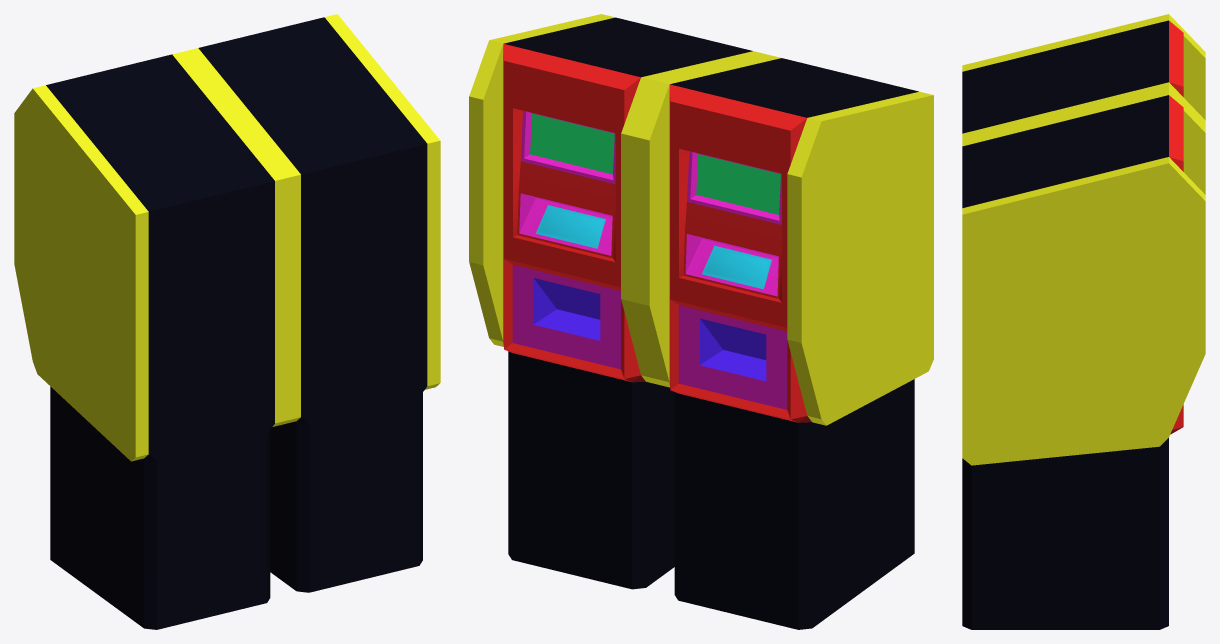
Rendered from atm.FBX.
The picture shows the model from 3 angles, left to right: view 1: azimuth 30°, elevation 25°; view 2: azimuth 150°, elevation 25°; view 3: azimuth 270°, elevation 25°; orthographic projection. The views are drawn at different scales.
Parts seen in each view (by area): view 1: ATM; view 2: ATM; view 3: ATM.
Part boxes in pixels (<box>): ATM: <box>14,14,440,629</box>; ATM: <box>469,14,933,629</box>; ATM: <box>962,14,1205,629</box>.
Size of the model in its own units: 38.08 by 56.28 by 26.24.
